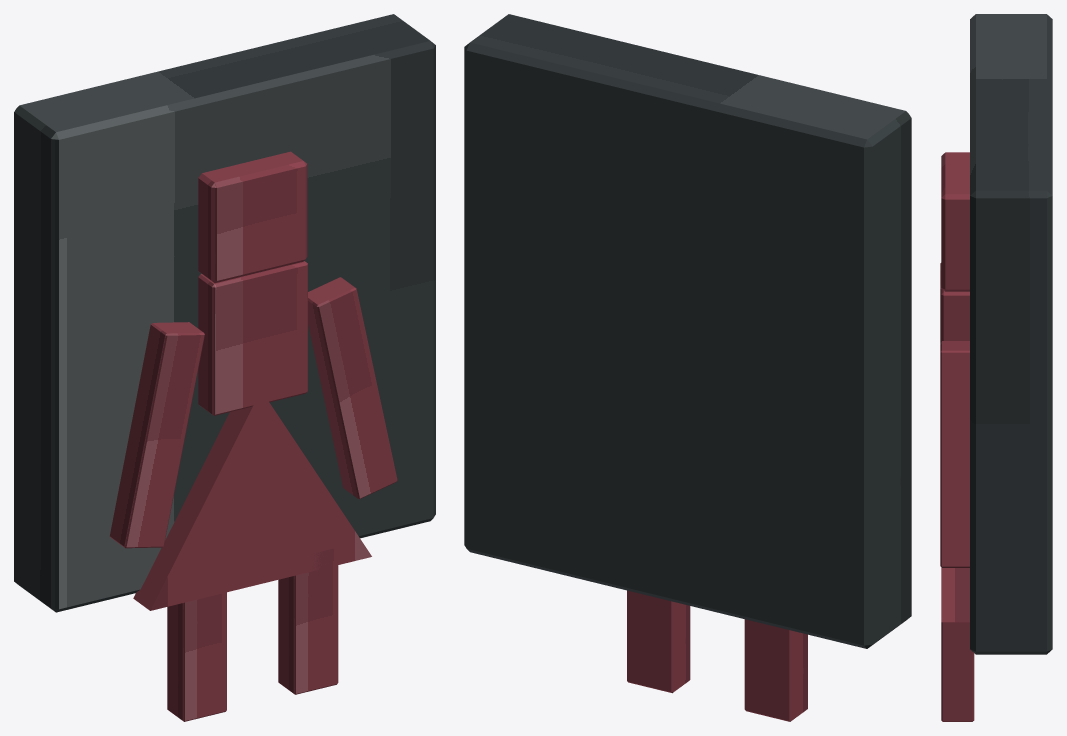
Rendered from public_womens_room_sign.glb.
3 views of the same model, side by side, from view 1: azimuth 30°, elevation 25°; view 2: azimuth 150°, elevation 25°; view 3: azimuth 270°, elevation 25° (orthographic). The views are drawn at different scales.
Parts seen in each view (by area): view 1: RestroomSignBack, SignTriangularSkirt, SignTorso, SignArm-0.13, SignHead, SignArm0.13, SignLeg0.075, SignLeg-0.075; view 2: RestroomSignBack, SignLeg-0.075, SignLeg0.075; view 3: RestroomSignBack, SignArm0.13, SignHead, SignLeg0.075, SignTriangularSkirt, SignTorso.
Boxes of the visible parts, box(x1,y1,x2,y2) form: RestroomSignBack: box(14, 14, 435, 612); SignTriangularSkirt: box(133, 390, 371, 610); SignTorso: box(198, 261, 307, 415); SignArm-0.13: box(110, 322, 204, 548); SignHead: box(198, 151, 307, 282); SignArm0.13: box(308, 277, 397, 499); SignLeg0.075: box(278, 547, 338, 694); SignLeg-0.075: box(167, 592, 226, 721); RestroomSignBack: box(464, 14, 911, 648); SignLeg-0.075: box(744, 619, 807, 721); SignLeg0.075: box(627, 590, 690, 693); RestroomSignBack: box(970, 14, 1052, 654); SignArm0.13: box(940, 341, 969, 567); SignHead: box(941, 152, 969, 291); SignLeg0.075: box(941, 622, 974, 721); SignTriangularSkirt: box(941, 567, 969, 622); SignTorso: box(941, 288, 969, 341).
Size of the model in its own units: 0.52 by 0.78 by 0.136.
Materials: 1 (1 with a texture image).
